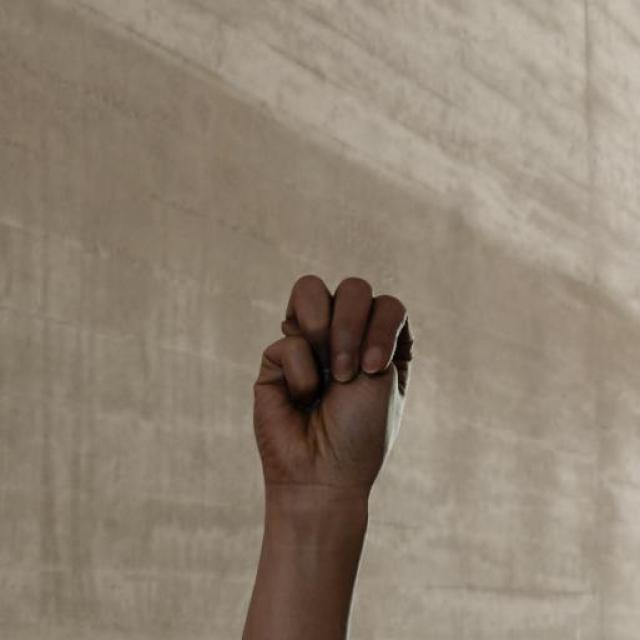M: (254, 271, 417, 504)
